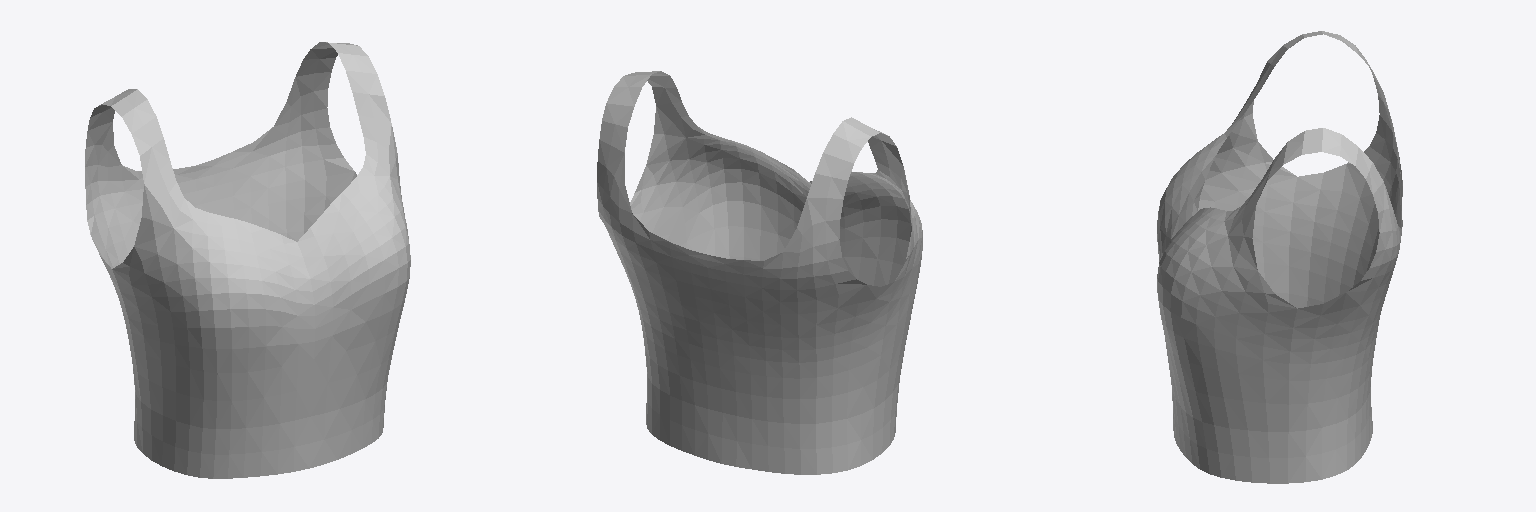
The model's file is 6_bodicesweetheart.obj.
The picture shows the model from 3 angles: view 1: azimuth 30°, elevation 25°; view 2: azimuth 150°, elevation 25°; view 3: azimuth 270°, elevation 25°; orthographic projection.
Visible parts, largest first — view 1: bodicefrontleft, bodicefrontright, bodicebackright, bodicebackleft, bodiceback, object_7; view 2: bodiceback, bodicebackleft, bodicefrontleft, object_7, bodicebackright, bodicefrontright; view 3: object_7, bodicebackright, bodicebackleft, bodicefrontleft, bodicefrontright, bodiceback.
Boxes of the visible parts, box(x1,y1,x2,y2) form: bodicefrontleft: box(111, 89, 314, 478); bodicefrontright: box(297, 176, 407, 468); bodicebackright: box(268, 42, 357, 241); bodicebackleft: box(85, 89, 142, 452); bodiceback: box(122, 127, 272, 233); object_7: box(329, 43, 410, 438); bodiceback: box(632, 213, 784, 473); bodicebackleft: box(780, 121, 893, 474); bodicefrontleft: box(810, 117, 922, 459); object_7: box(625, 71, 729, 258); bodicebackright: box(597, 74, 669, 445); bodicefrontright: box(719, 137, 810, 260); object_7: box(1170, 128, 1322, 483); bodicebackright: box(1288, 128, 1399, 483); bodicebackleft: box(1289, 31, 1399, 308); bodicefrontleft: box(1157, 31, 1322, 302); bodicefrontright: box(1157, 207, 1225, 468); bodiceback: box(1361, 157, 1402, 457).
Size of the model in its own units: 12.35 by 15.18 by 9.69.